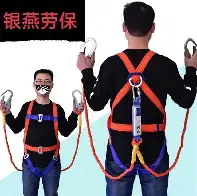safety belt: (105, 52, 176, 175), (20, 101, 63, 176)
